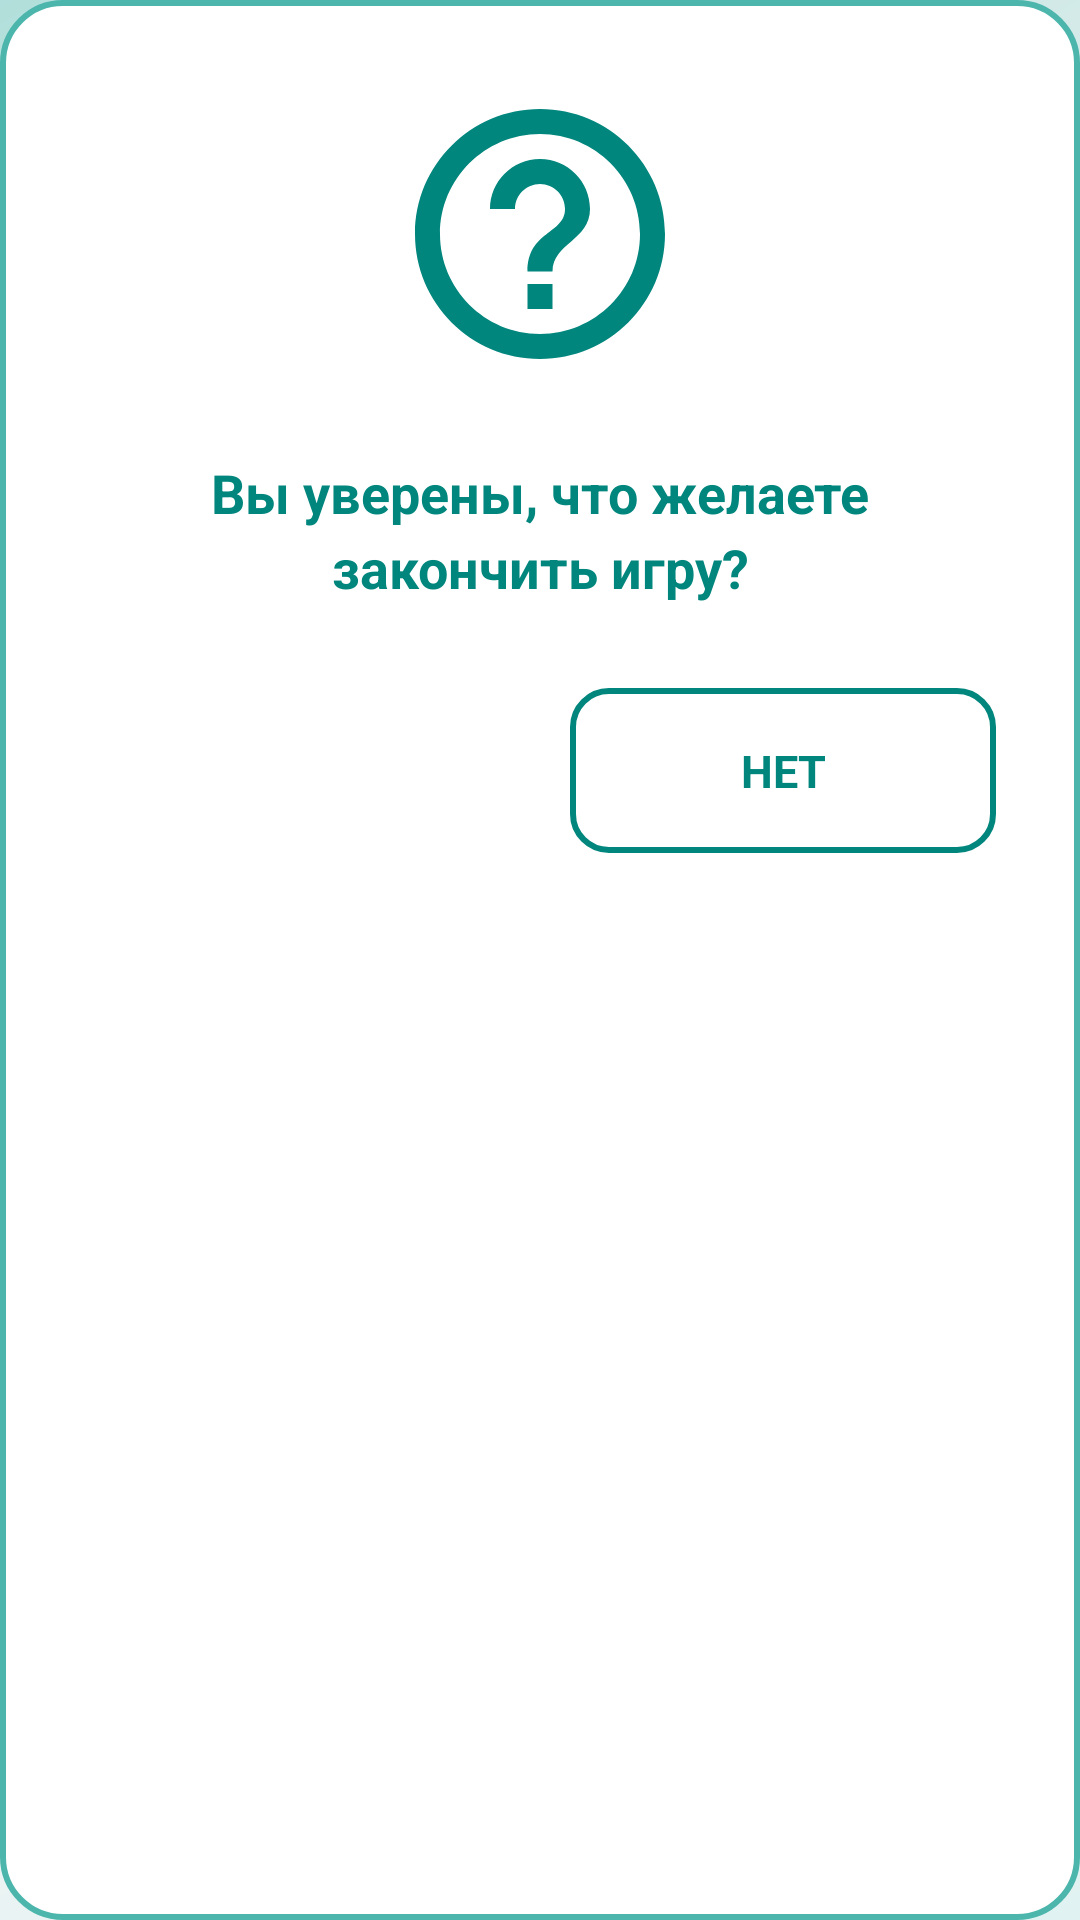

Screen size 1080x1920. Icon name, then its box in pixels as (left=x1, top=y1, right=x2, bottom=y2):
Question icon: (left=415, top=109, right=665, bottom=359)
